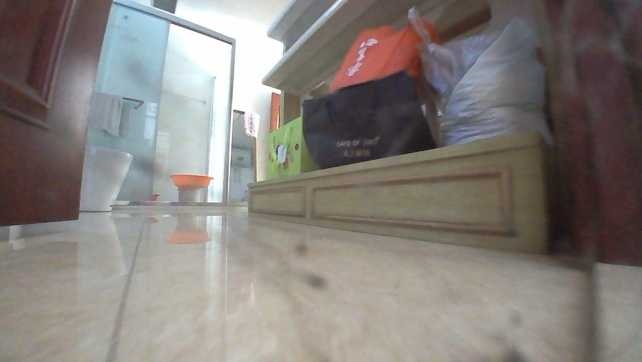toilet: (80, 146, 133, 215)
